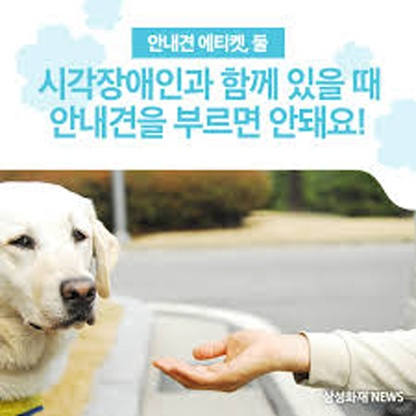guide-dog: (1, 172, 119, 410)
